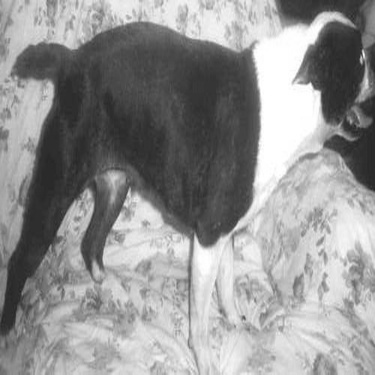dog: (12, 5, 372, 371)
